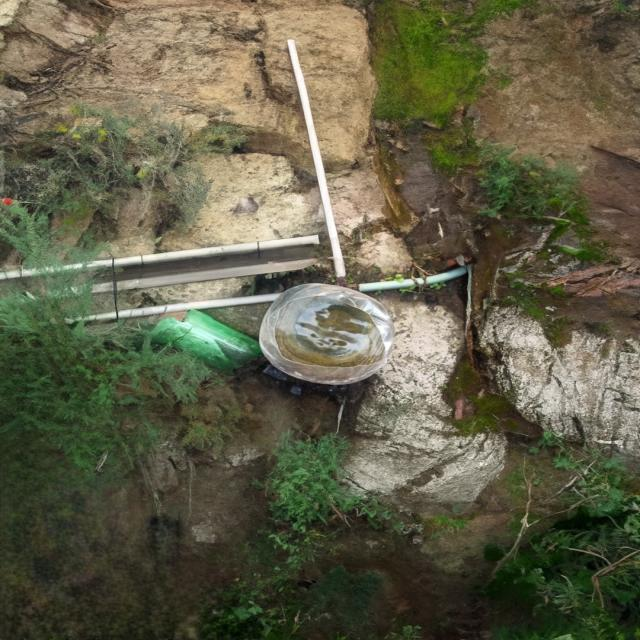Breeding Place: (361, 0, 585, 334), (228, 273, 402, 397)
